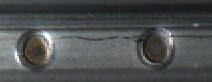joints: (136, 25, 176, 69), (14, 28, 53, 70)
